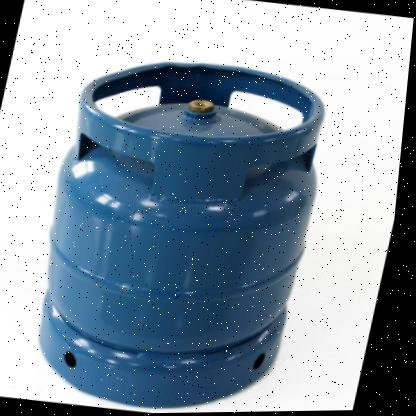gas-tank: (8, 39, 358, 415)
